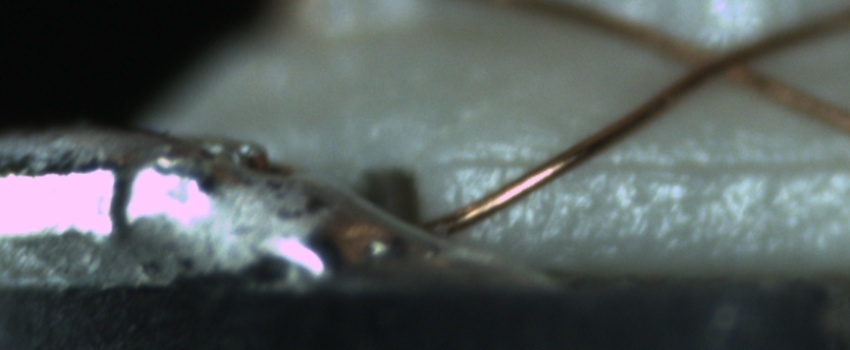CL: (668, 30, 758, 91)
DL: (444, 132, 849, 192)
